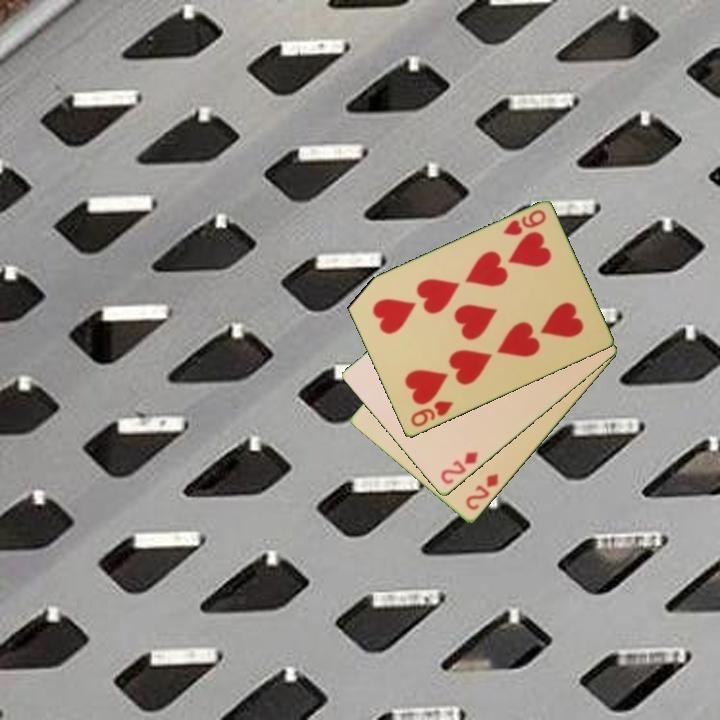2d: (437, 448, 481, 488), (462, 470, 501, 513)
9h: (499, 206, 549, 239), (407, 397, 456, 430)
